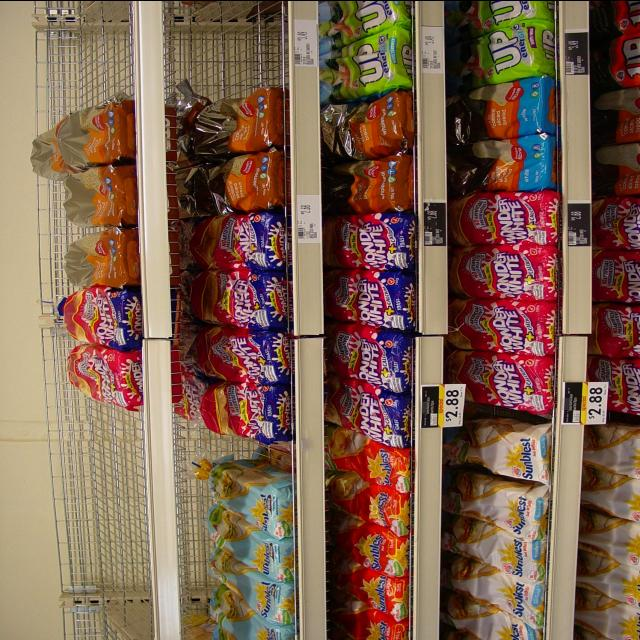empty_space: (73, 405, 147, 584), (47, 0, 131, 102), (170, 0, 277, 79), (211, 442, 285, 466)
